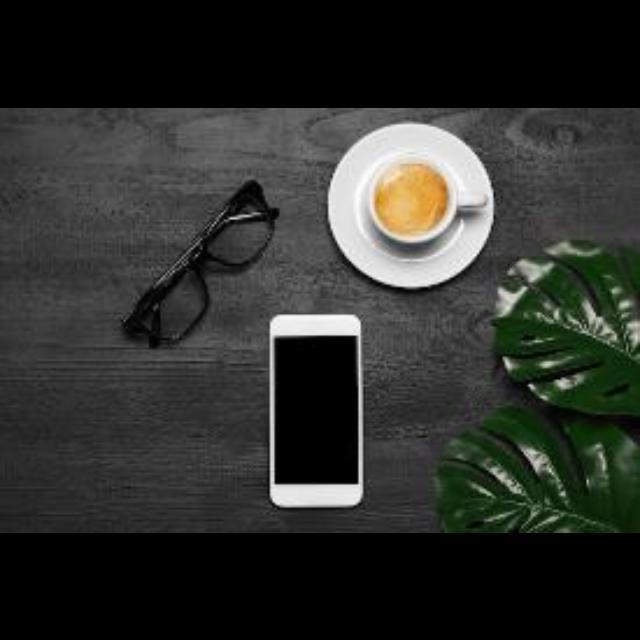Phone: (270, 314, 364, 510)
